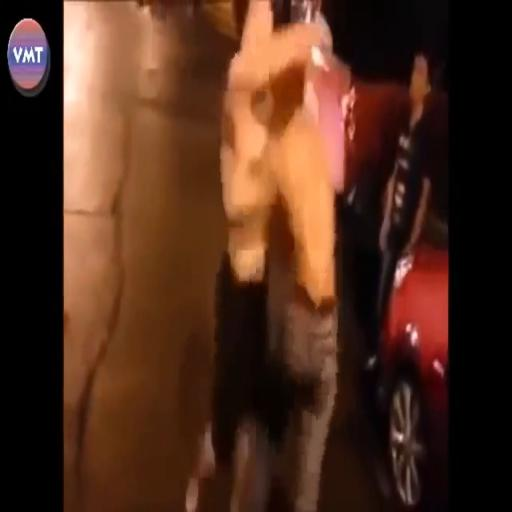violencia: (181, 0, 341, 509)
